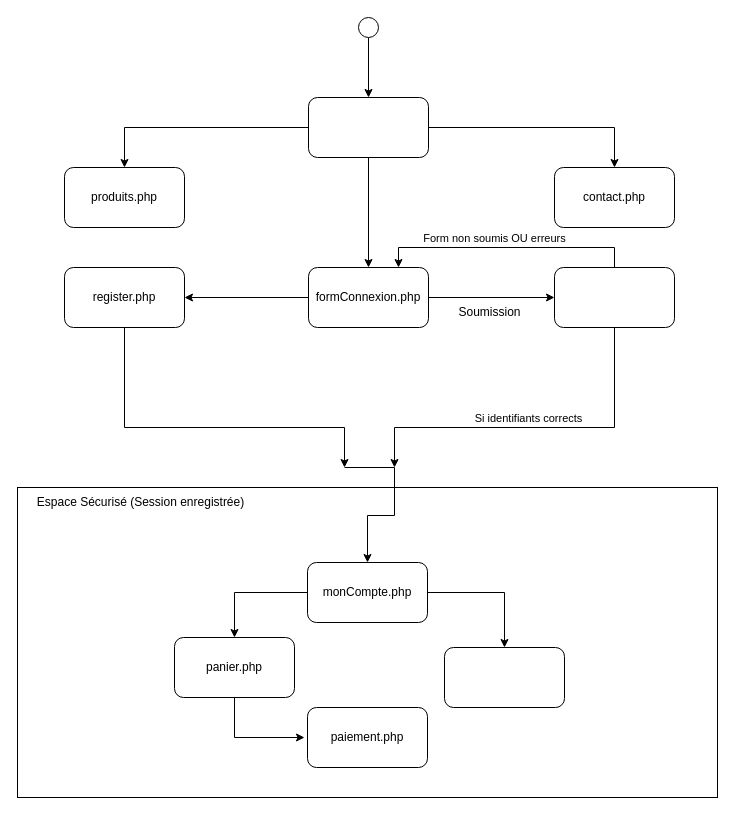
This 735x815 diagram has some shape labels left out. Here are the shapes that lost their labels. From the top down, the centre of each, then its label:
At pixel 368 127: "index.php".
At pixel 614 297: "traitConnexion.php".
At pixel 504 677: "historique.php".
